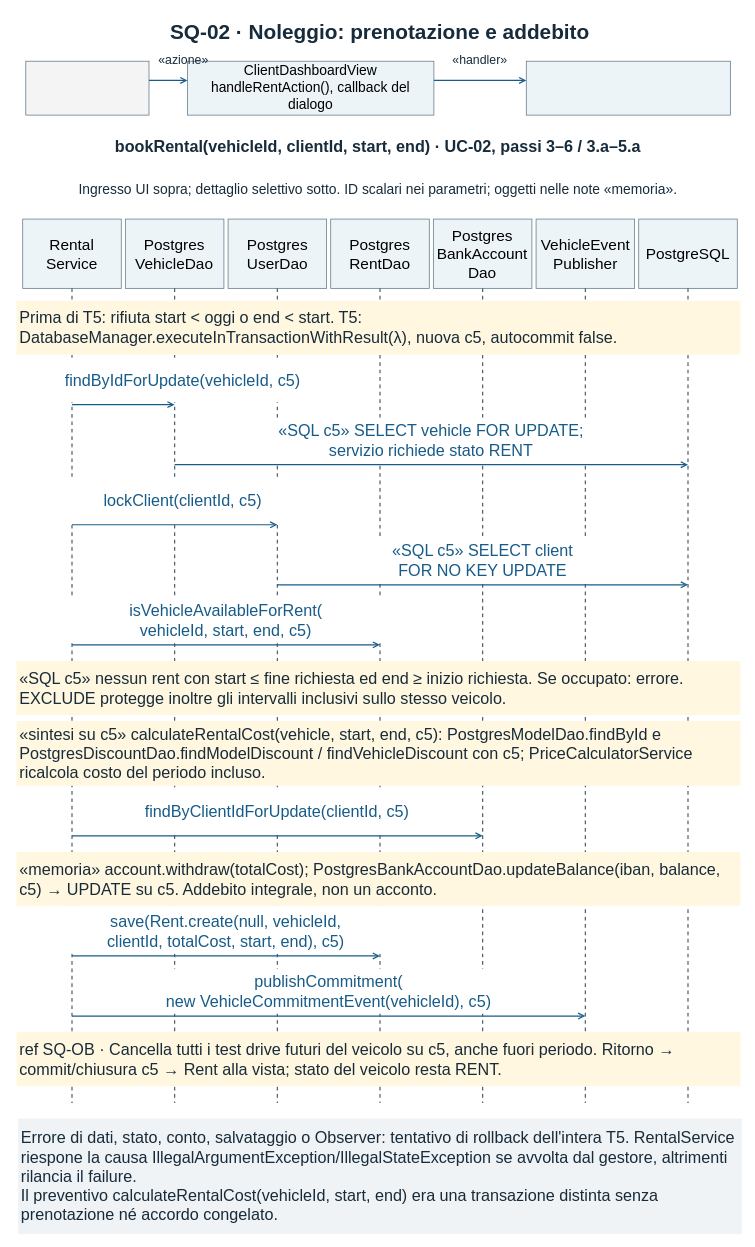
Some shapes in this 755 by 1247 pixel diagram are drawn without their labels. Here are the shapes that lost their labels. From the top down, the centre of each, then its label:
At pixel 87 87: "Cliente: conferma date".
At pixel 628 87: "RentalService".
